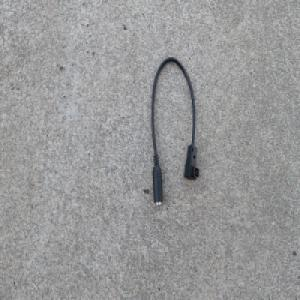Wire: (147, 56, 198, 208)
